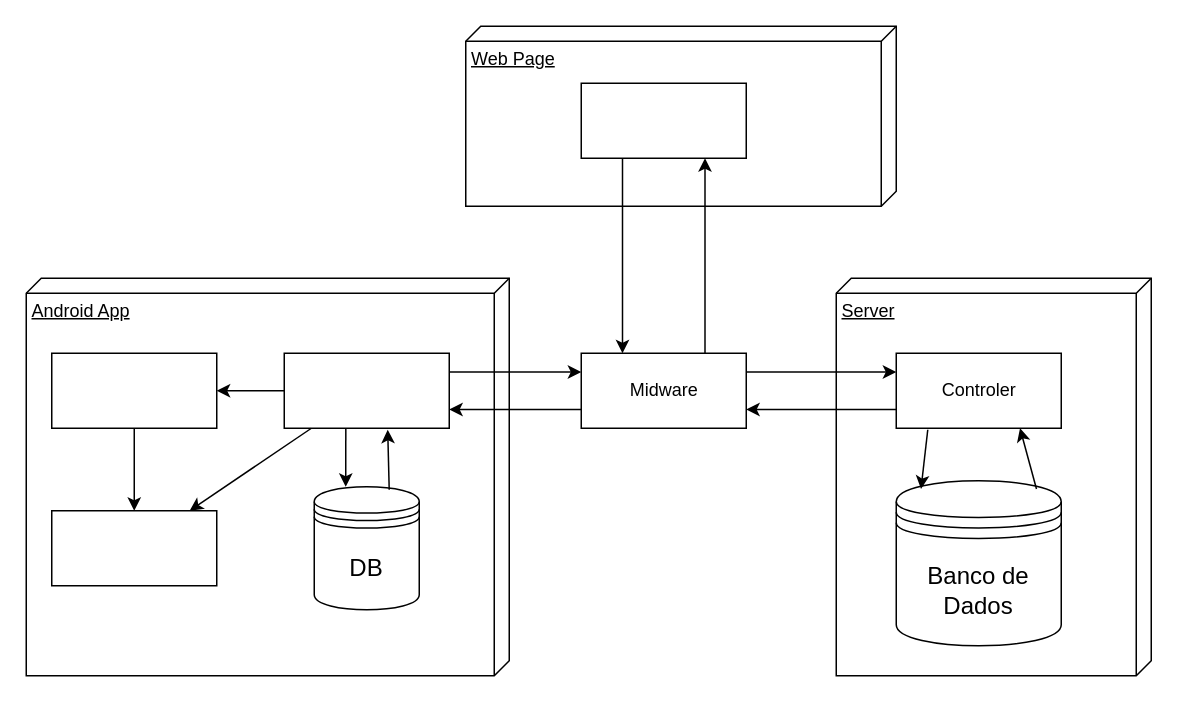
Image size: 1178x702. Some labels were removed from this diagram. Here are the shapes that lost their labels. From the top down, the box of each, then its label:
(580, 82, 746, 158): Web View
(50, 352, 217, 428): App Model
(283, 352, 449, 428): App Controler
(50, 509, 217, 586): App View
